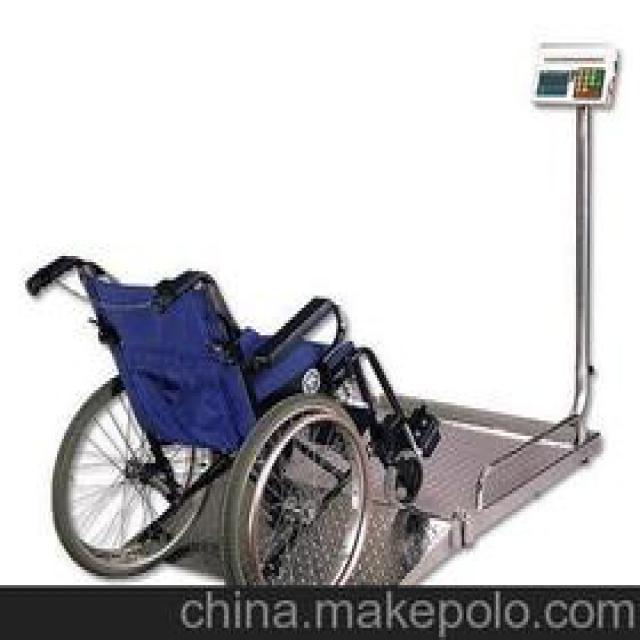wheelchair: (9, 237, 446, 588)
